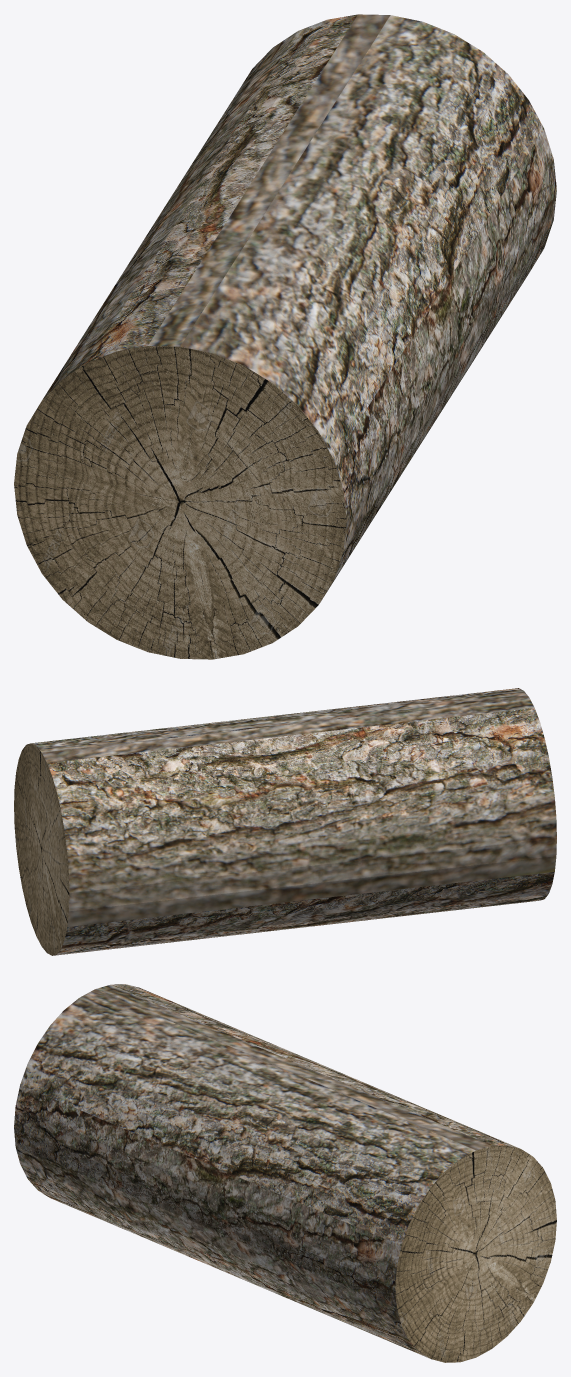
File: firewood.dae
The picture shows the model from 3 angles, top to bottom: view 1: azimuth 30°, elevation 25°; view 2: azimuth 150°, elevation 25°; view 3: azimuth 270°, elevation 25°; orthographic projection. The views are drawn at different scales.
Parts seen in each view (by area): view 1: Firewood; view 2: Firewood; view 3: Firewood.
Part boxes in pixels (bbox=[...]): Firewood: bbox=[14, 14, 556, 659]; Firewood: bbox=[14, 688, 556, 955]; Firewood: bbox=[14, 984, 556, 1362].
Bounding box in the file's own units: 2.84 × 2.84 × 1.2.
2 materials, 2 textured.
